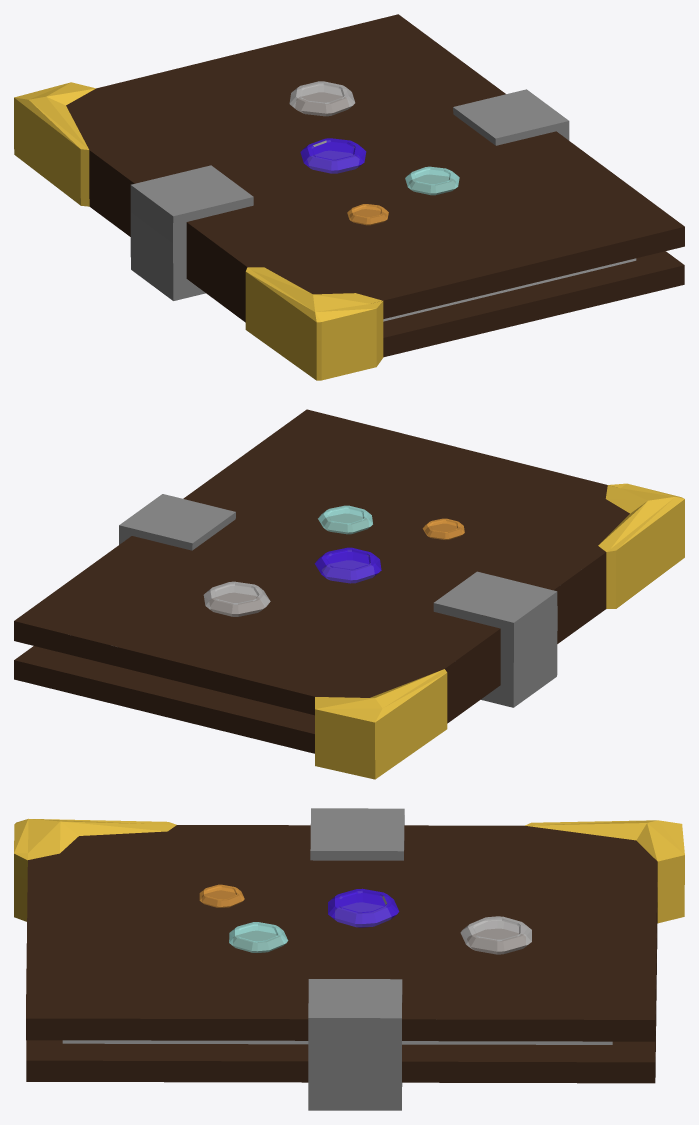
File: libro .fbx
3 renders of one model, top to bottom at view 1: azimuth 30°, elevation 25°; view 2: azimuth 150°, elevation 25°; view 3: azimuth 270°, elevation 25°, orthographic. The views are drawn at different scales.
Visible parts, largest first — view 1: Plane, Plane.002, Plane.003, Plane.004; view 2: Plane, Plane.002, Plane.003, Plane.004; view 3: Plane, Plane.002, Plane.003, Plane.004.
Boxes of the visible parts, left/top/right/bottom form: Plane: left=14, top=14, right=684, bottom=380; Plane.002: left=289, top=81, right=355, bottom=116; Plane.003: left=405, top=166, right=459, bottom=195; Plane.004: left=347, top=204, right=388, bottom=225; Plane: left=14, top=409, right=684, bottom=779; Plane.002: left=203, top=581, right=270, bottom=616; Plane.003: left=318, top=505, right=372, bottom=534; Plane.004: left=422, top=518, right=464, bottom=539; Plane: left=14, top=808, right=684, bottom=1110; Plane.002: left=460, top=916, right=531, bottom=954; Plane.003: left=229, top=922, right=288, bottom=952; Plane.004: left=199, top=884, right=244, bottom=907.
Size of the model in its own units: 214 by 46.29 by 290.
